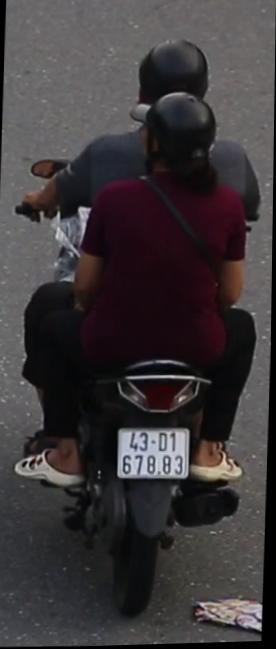LP: (113, 425, 196, 488)
helmet: (140, 89, 220, 182), (133, 35, 214, 114)
